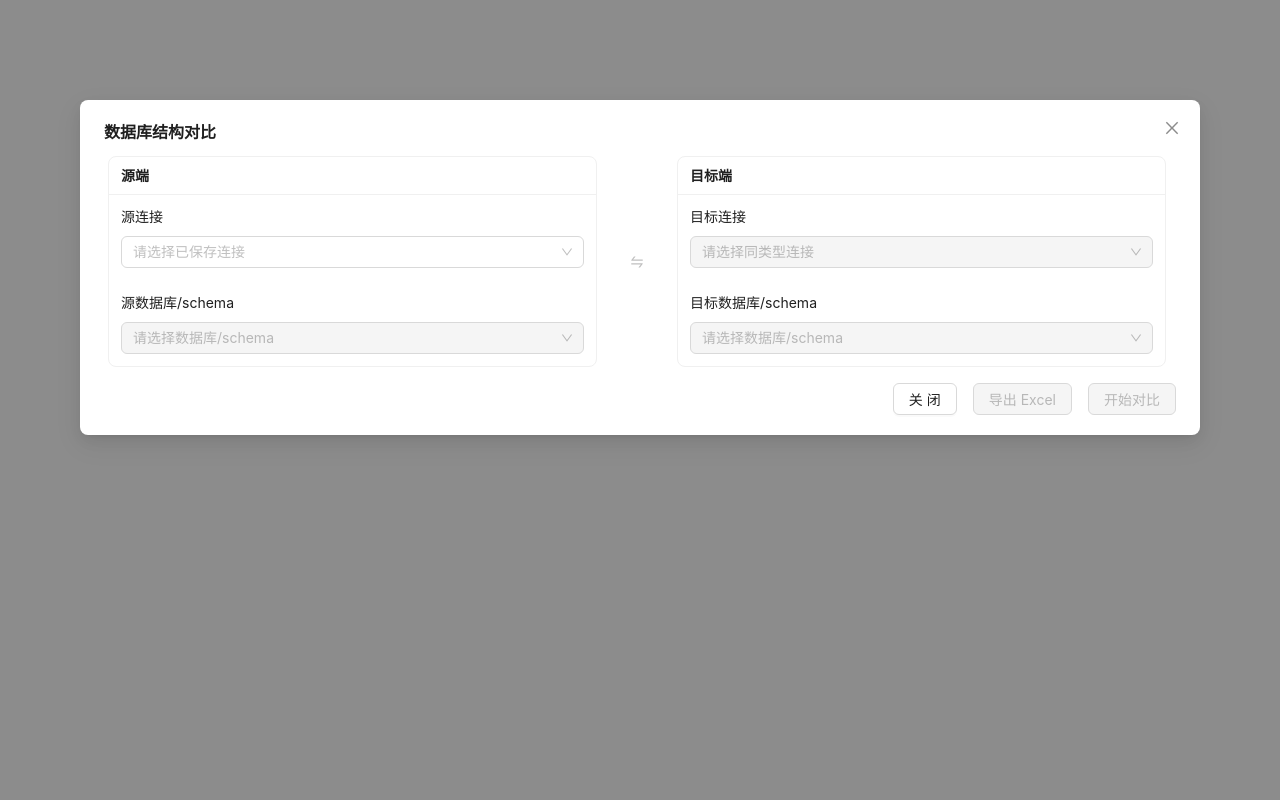
Scenario: DatabaseCompareModal › 数据库列表加载失败后可重试并继续选择
The image size is (1280, 800).
Step 1. Press the mouse on the dropdown labelled "源连接" → [344, 252], box [133,237,554,267]
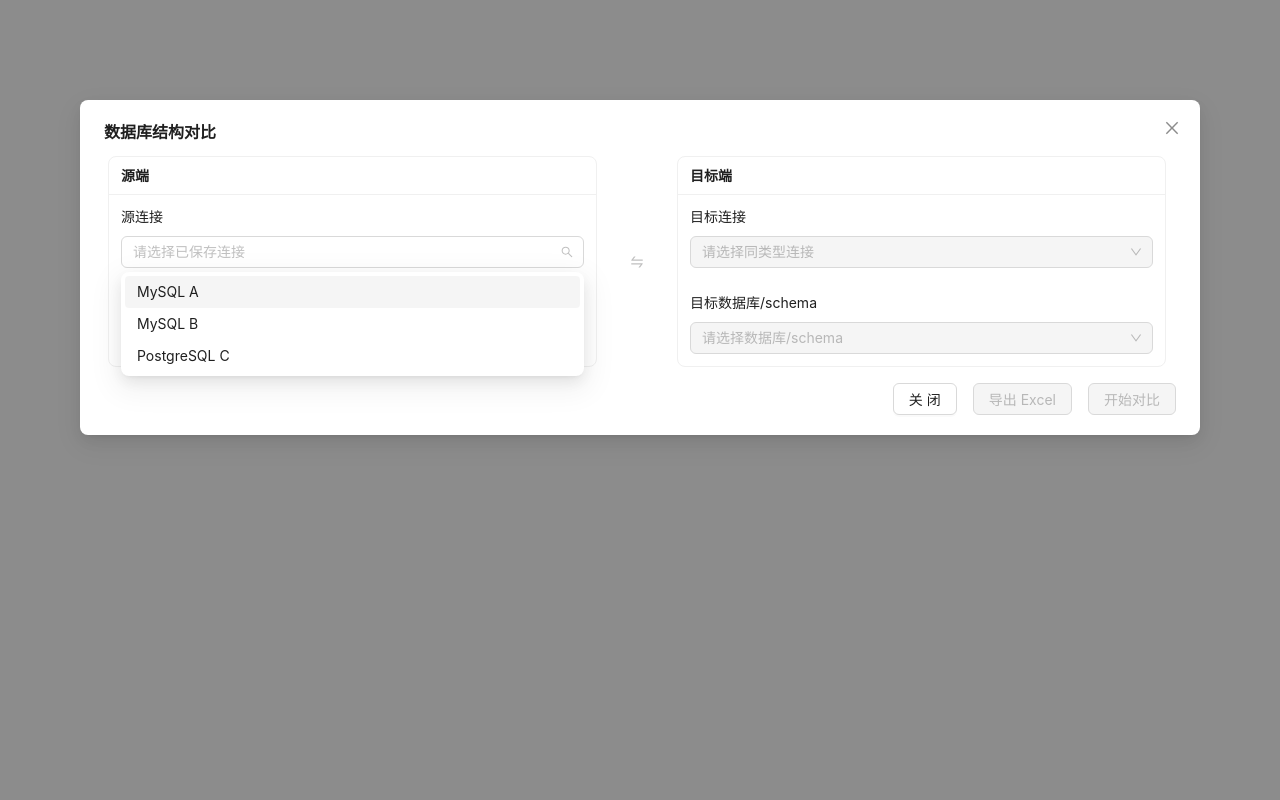
Step 2. Click the option "MySQL A" → [168, 292], box [125,276,580,308]
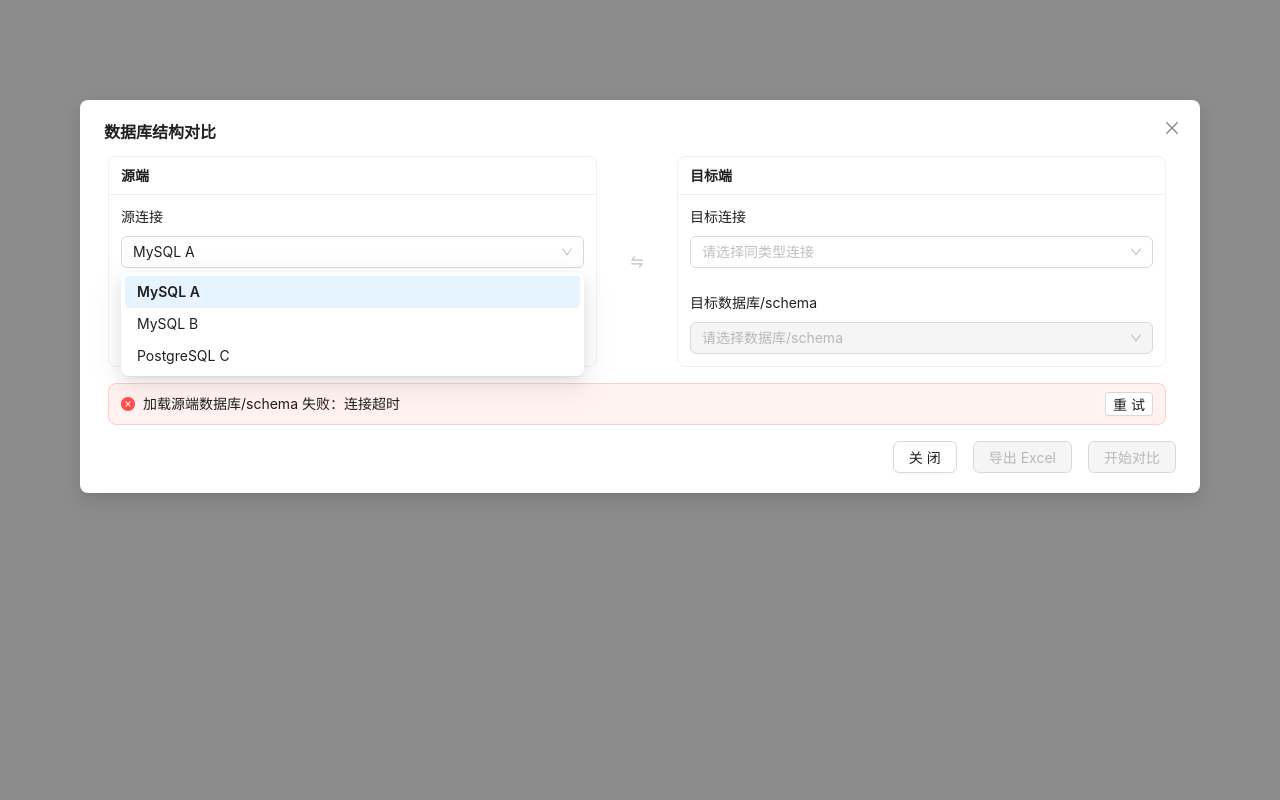
Check: the text "连接超时" is shown, box [143,395,400,412]
Step 3. Click the button named "重试源端列表" → [1129, 404], box [1105,392,1153,416]
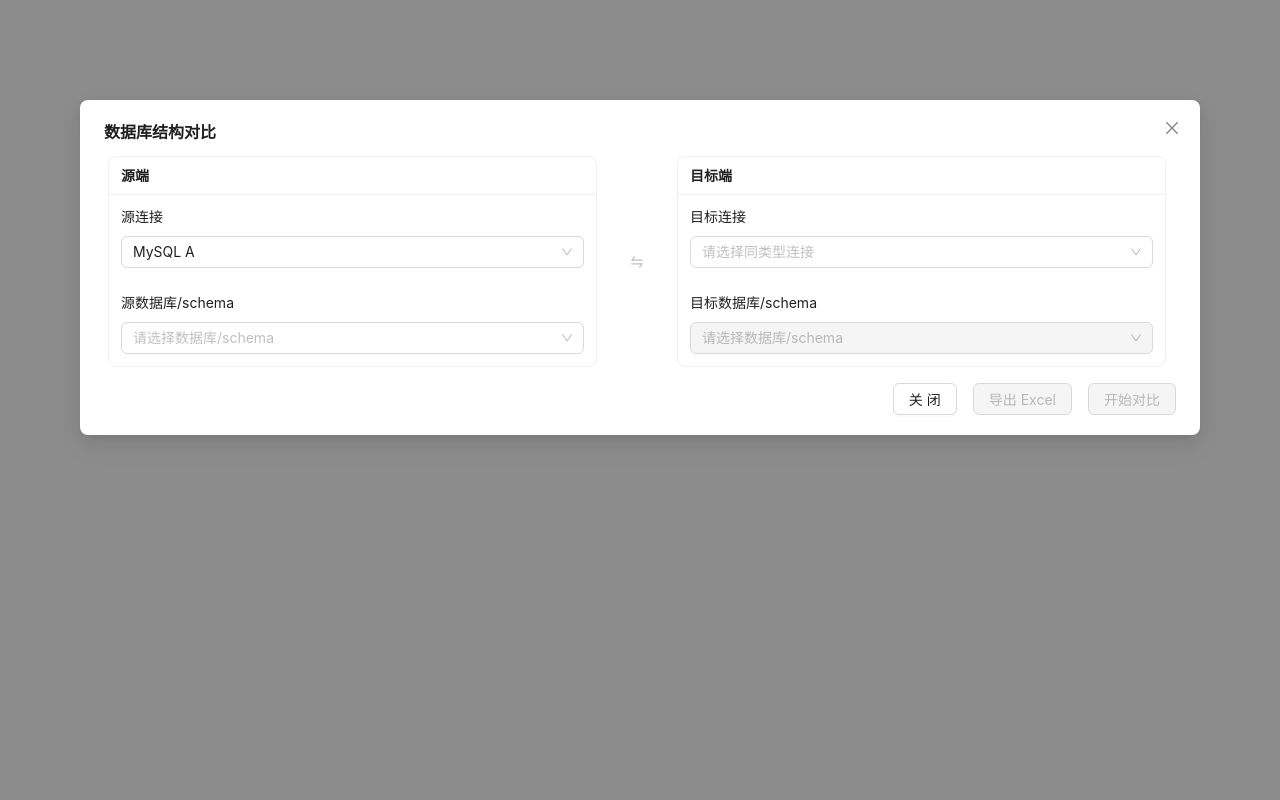
Step 4. Press the mouse on the dropdown labelled "源数据库/schema" → [344, 338], box [133,323,554,353]
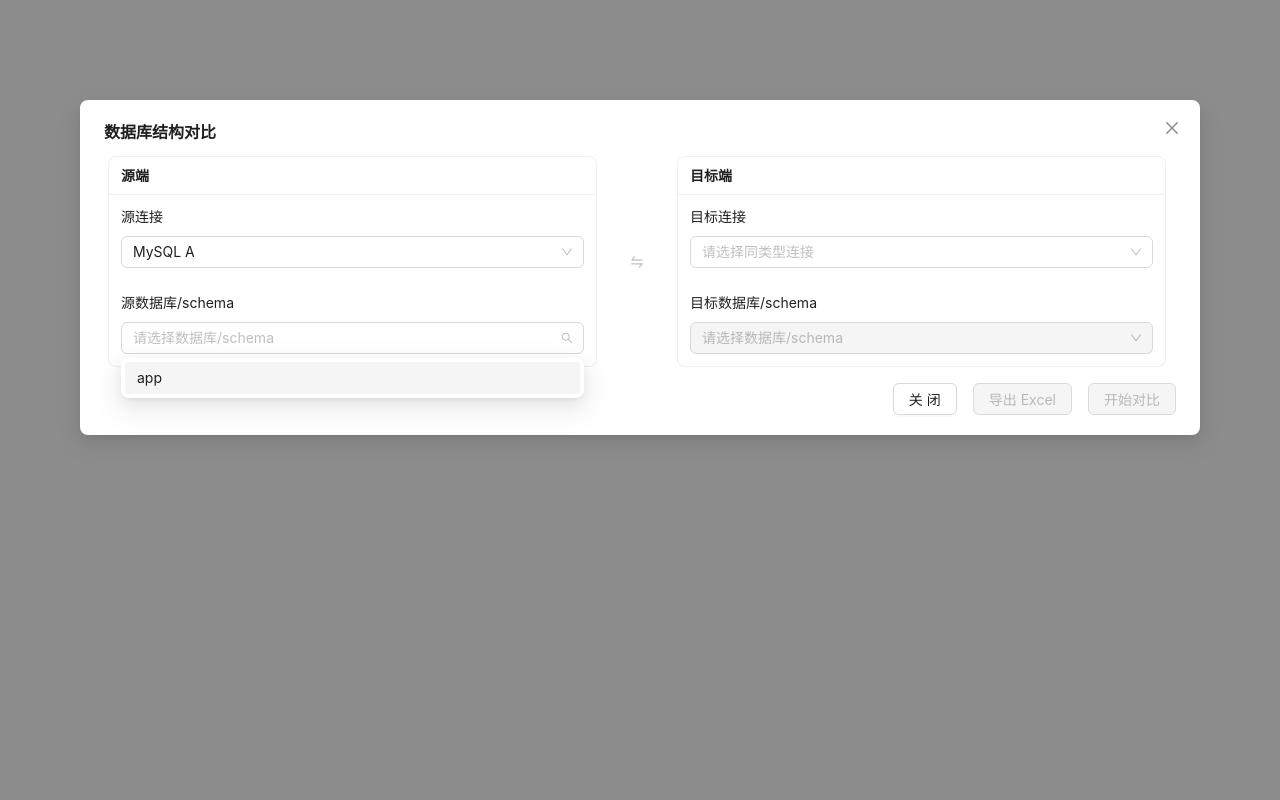
Step 5. Click the option "app" → [150, 378], box [125,362,580,394]
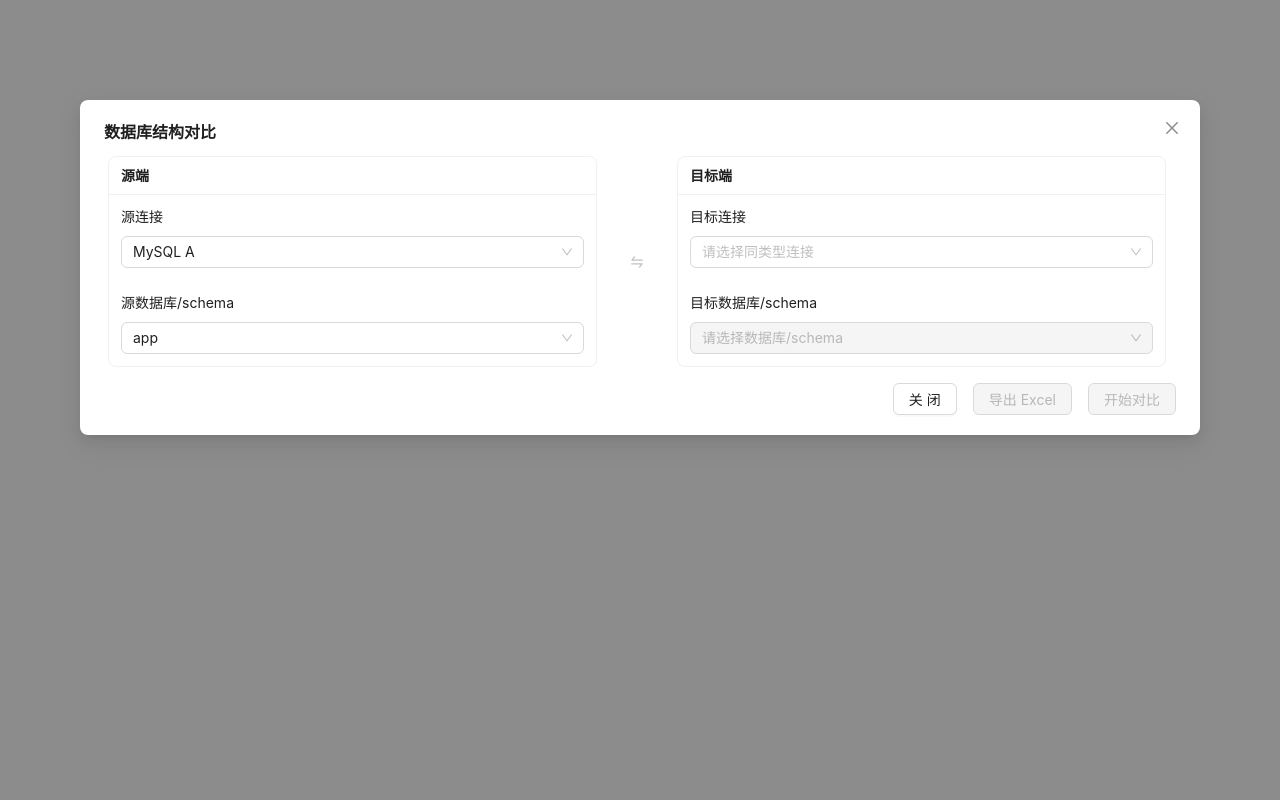
Check: the element showing "app" is shown, box [133,323,572,353]
